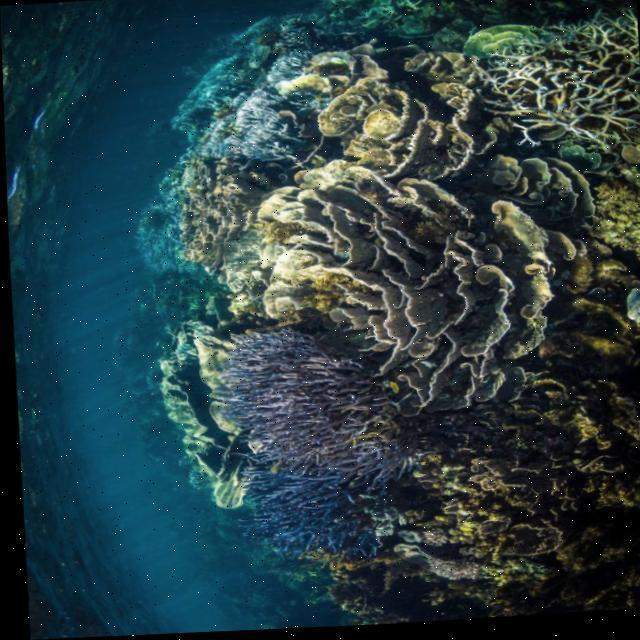Healthy Coral: (132, 0, 640, 635)
